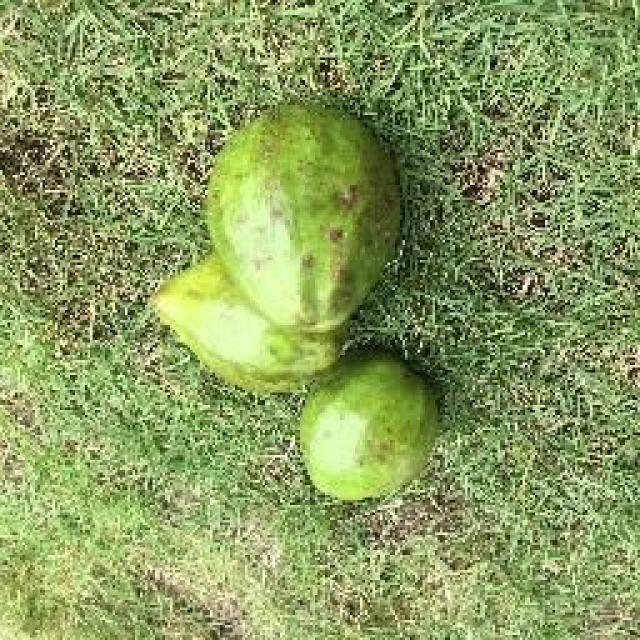Good_Guava: (205, 102, 398, 340)
